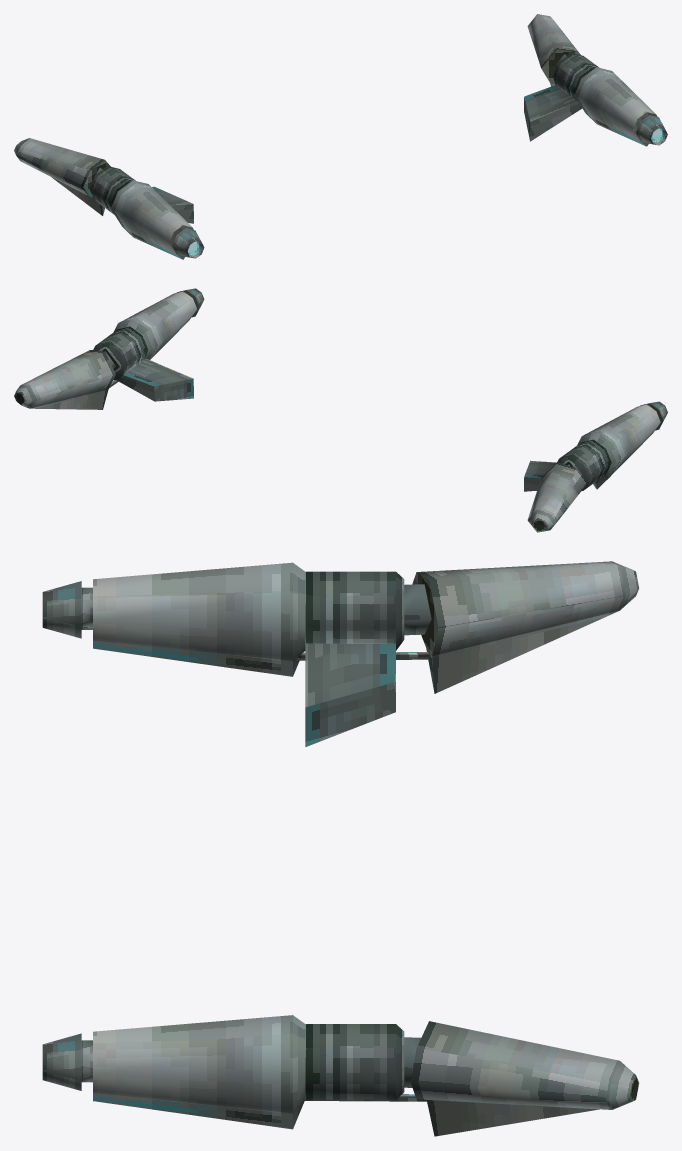
File: kse_firespray_weapon2_s02_l1.fbx
3 views of the same model, one above another, from view 1: azimuth 30°, elevation 25°; view 2: azimuth 150°, elevation 25°; view 3: azimuth 270°, elevation 25° (orthographic). The views are drawn at different scales.
Parts seen in each view (by area): view 1: mesh_node; view 2: mesh_node; view 3: mesh_node.
Boxes of the visible parts, x1,y1,x2,y2 form: mesh_node: [14, 14, 667, 259]; mesh_node: [14, 288, 667, 532]; mesh_node: [42, 561, 639, 1136].
Bounding box in the file's own units: 5.42 × 0.6055 × 2.59.
Materials: 1 (1 with a texture image).
